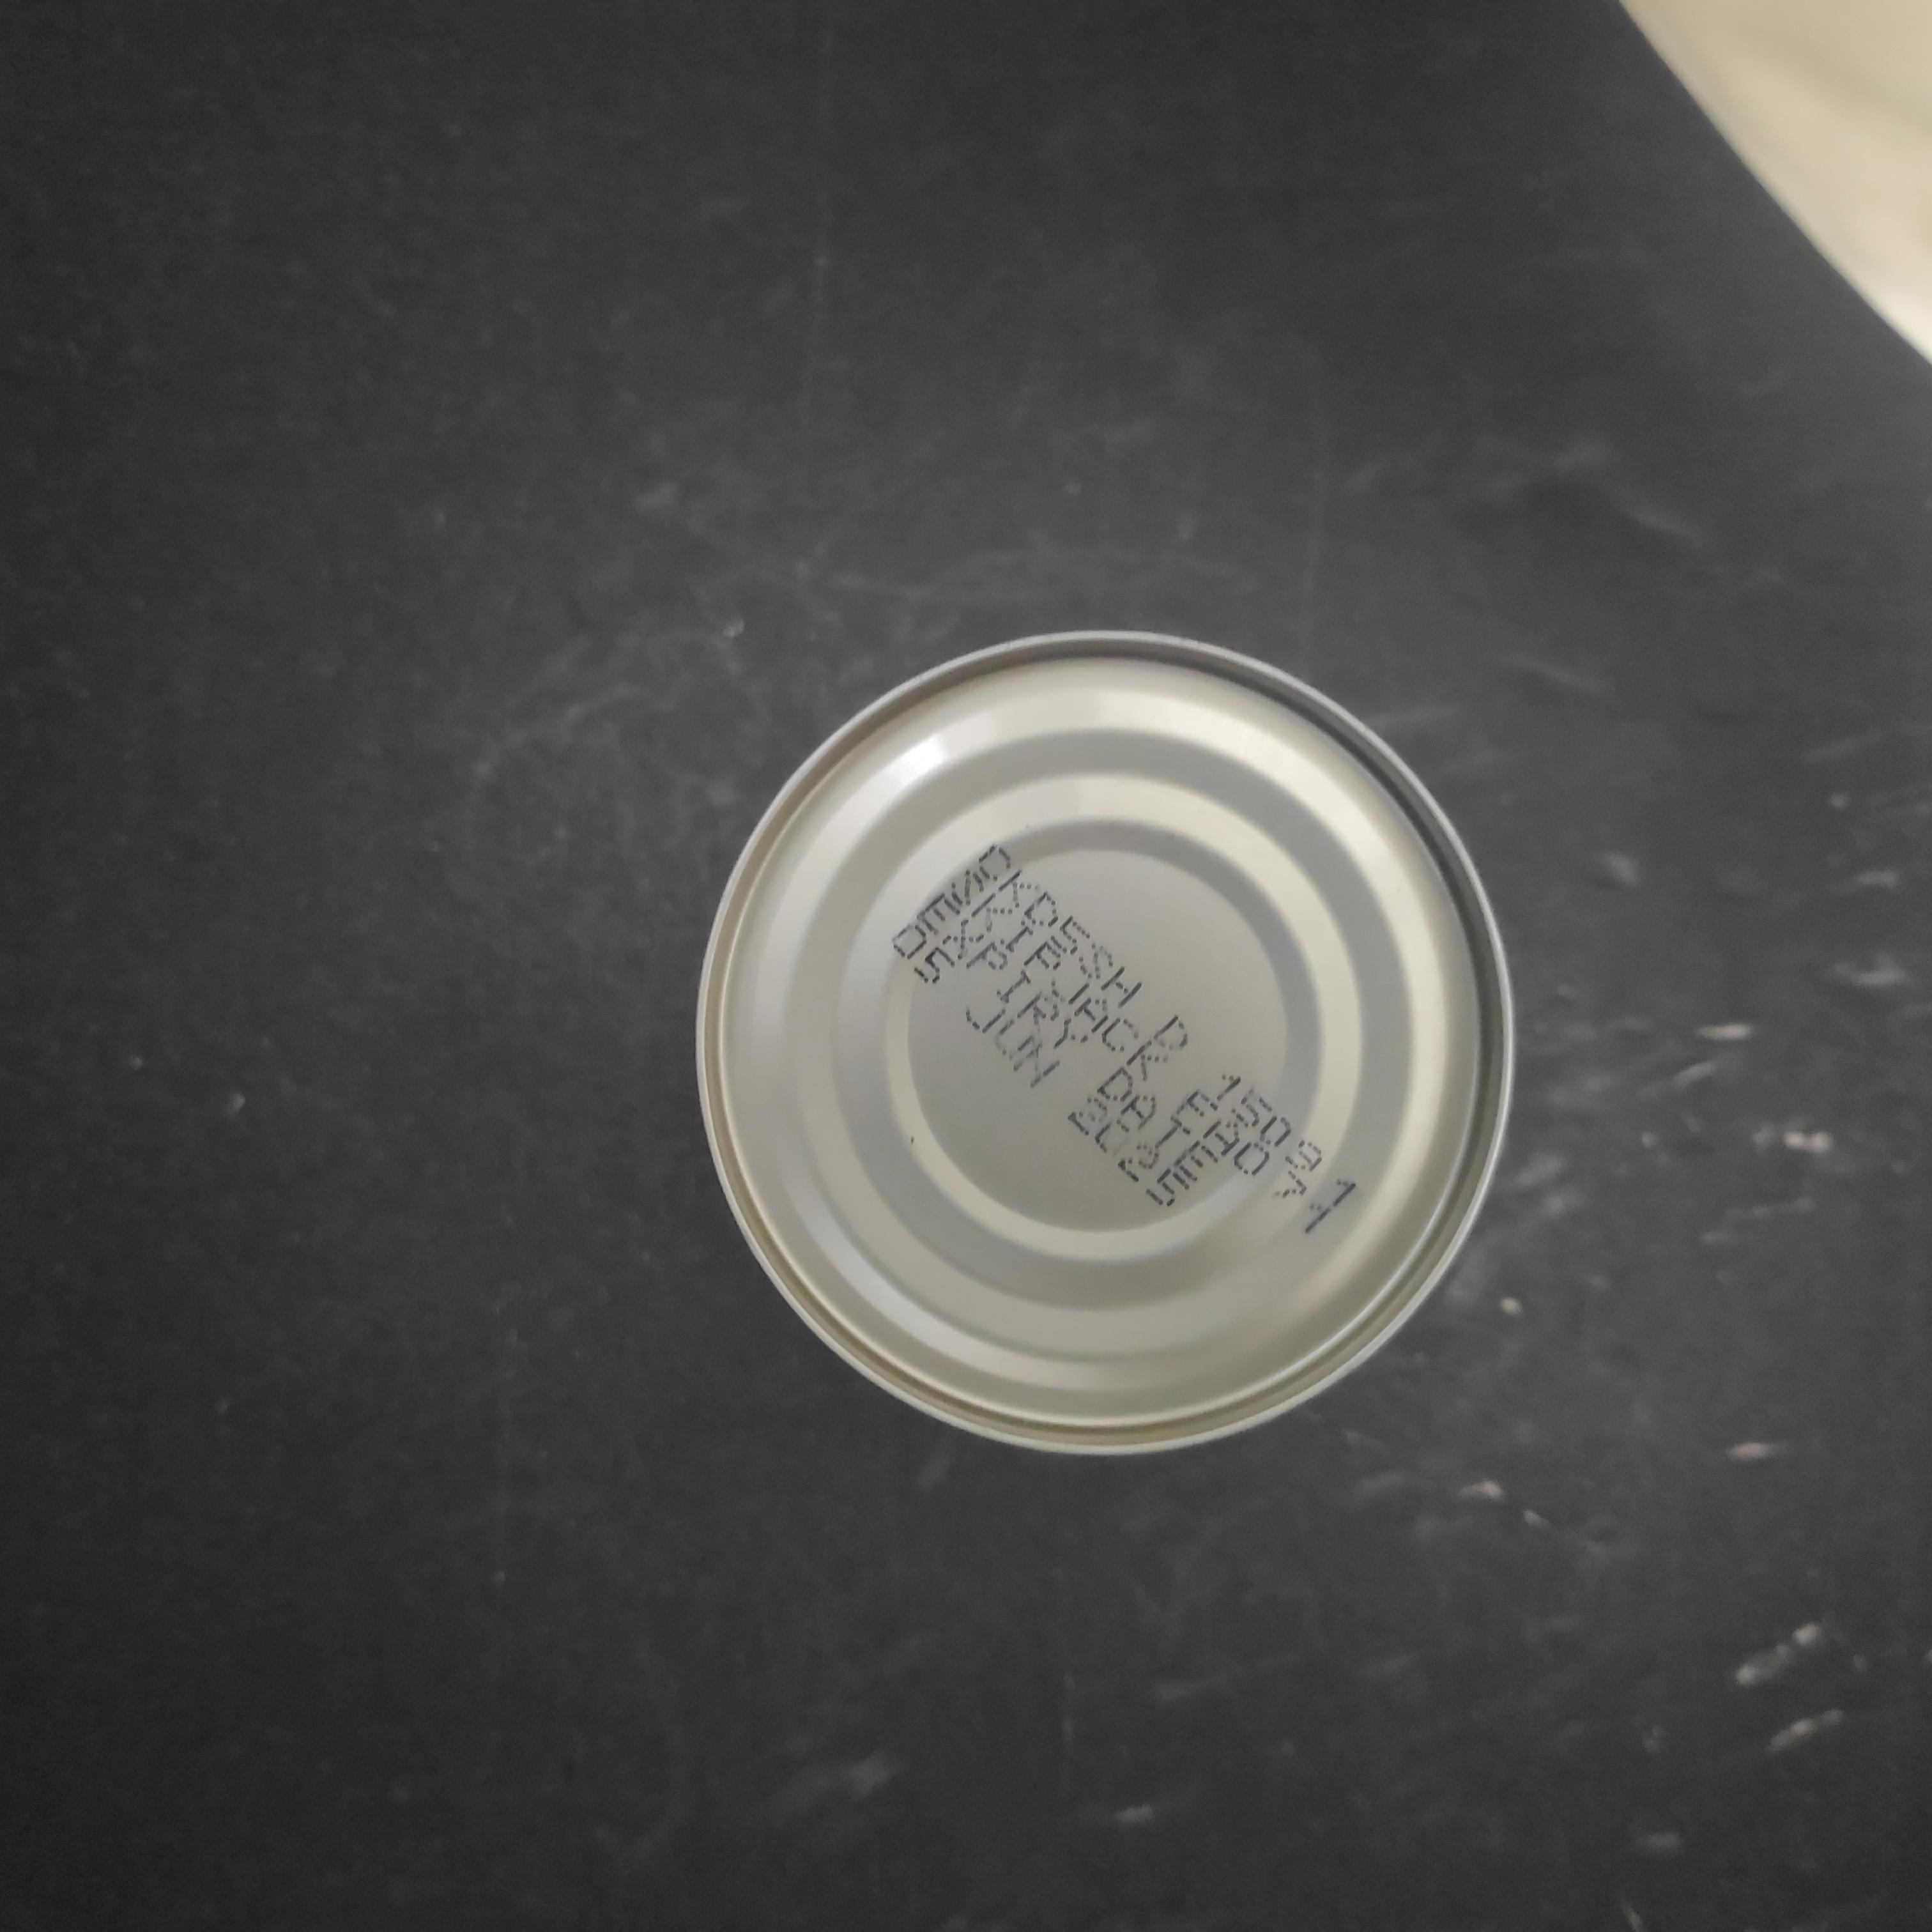No defect: (416, 474, 1240, 1304)
